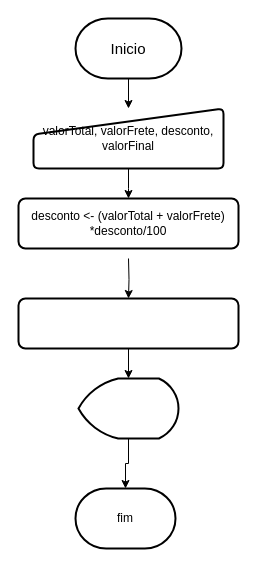
This 256x566 diagram has some shape labels left out. Here are the shapes that lost their labels. From the top down, the centre of each, then its label:
the point at 128,323: valorFinal <- valorTotal + valorFrete - desconto
the point at 128,408: produto, precoInicial, precoFinal
